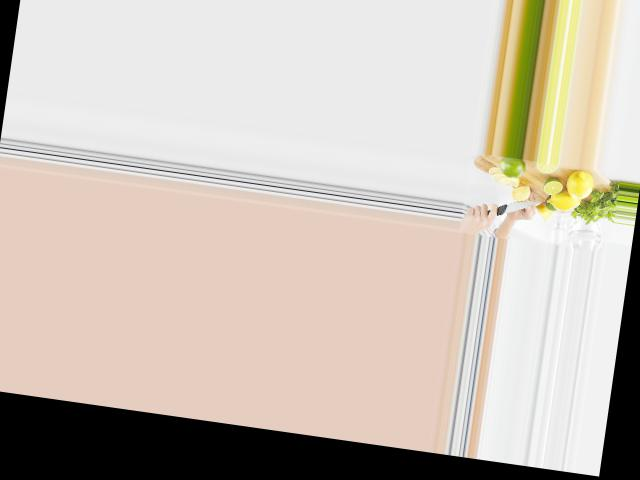lemon: (562, 169, 599, 201)
